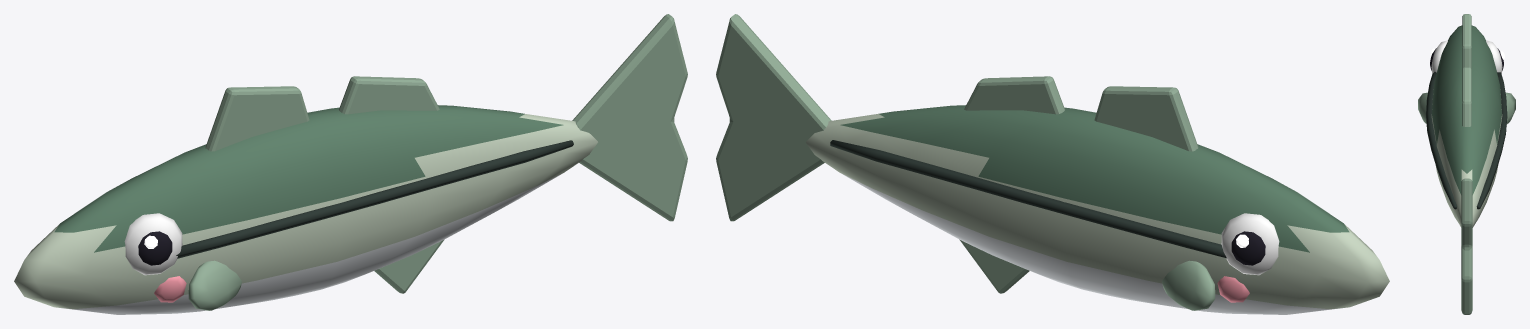
The model's file is peixe-robalo.glb.
3 views of the same model, side by side, from view 1: azimuth 30°, elevation 25°; view 2: azimuth 150°, elevation 25°; view 3: azimuth 270°, elevation 25° (orthographic). The views are drawn at different scales.
Visible parts, largest first — view 1: peixe-robalo; view 2: peixe-robalo; view 3: peixe-robalo.
Part boxes in pixels (x1=…): peixe-robalo: x1=14, y1=14, x2=687, y2=314; peixe-robalo: x1=716, y1=14, x2=1389, y2=314; peixe-robalo: x1=1418, y1=14, x2=1515, y2=314.
Bounding box in the file's own units: 0.2689 × 0.0938 × 0.0511.
